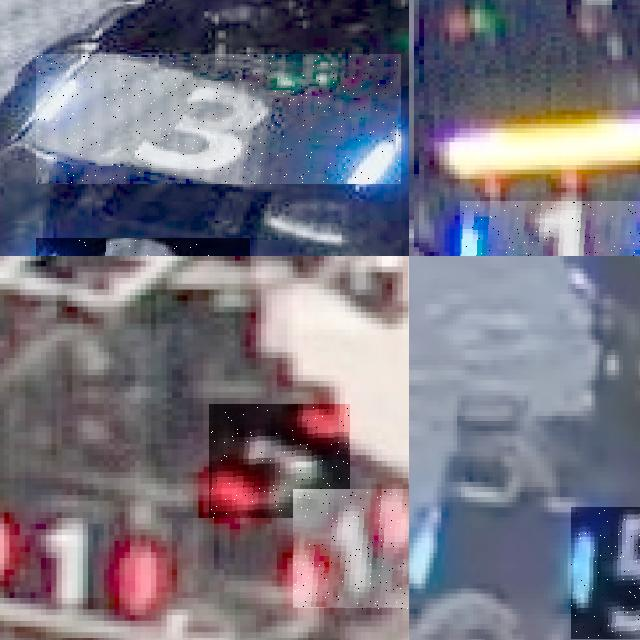B1: (459, 201, 640, 256)
B3: (36, 54, 401, 184)
B5: (571, 507, 640, 639)
R1: (0, 501, 161, 621), (209, 404, 350, 518), (292, 489, 409, 609)
